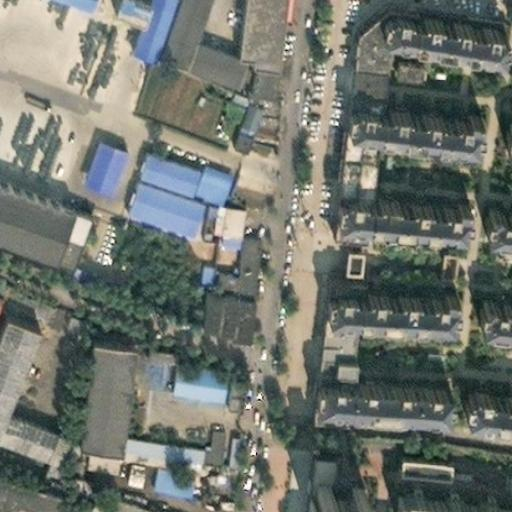building: (325, 59, 370, 267), (67, 332, 120, 438), (332, 179, 465, 220), (344, 86, 475, 125), (300, 363, 431, 401), (312, 272, 440, 310), (107, 419, 213, 462), (115, 171, 193, 226), (383, 0, 495, 38), (196, 288, 261, 344), (203, 230, 254, 288), (127, 140, 187, 189), (0, 403, 57, 454), (40, 196, 83, 260), (303, 297, 342, 367), (378, 43, 452, 79), (342, 0, 384, 63), (293, 470, 355, 512), (387, 481, 463, 512), (79, 484, 163, 512), (164, 357, 215, 396), (462, 384, 512, 423), (186, 231, 230, 275), (77, 131, 115, 181), (123, 0, 159, 51), (178, 151, 219, 194), (196, 428, 230, 477), (225, 163, 268, 199), (0, 279, 41, 310), (143, 454, 188, 482), (477, 295, 512, 331), (206, 195, 235, 237), (460, 489, 512, 512), (387, 451, 441, 473), (300, 449, 329, 485), (230, 83, 256, 122), (75, 435, 108, 464), (487, 202, 512, 238), (239, 55, 264, 86), (438, 251, 461, 282), (117, 451, 140, 479), (59, 451, 76, 487), (253, 85, 271, 118), (104, 0, 139, 14), (214, 497, 235, 512)
